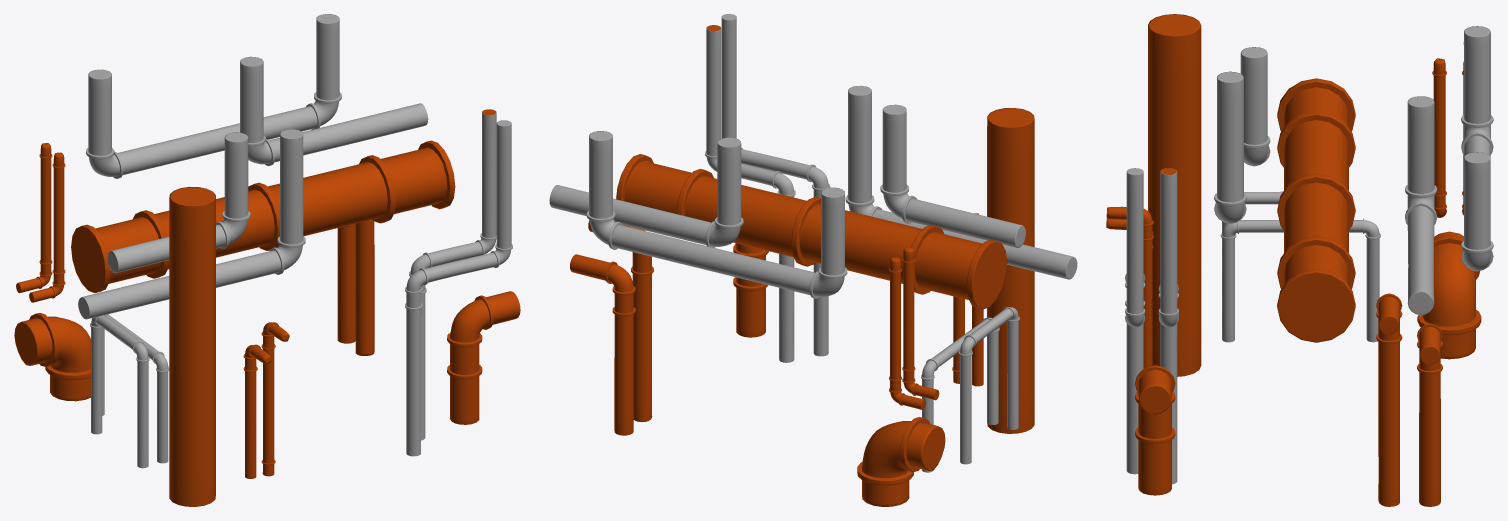
The model's file is pipes.fbx.
3 views of the same model, side by side, from view 1: azimuth 30°, elevation 25°; view 2: azimuth 150°, elevation 25°; view 3: azimuth 270°, elevation 25° (orthographic). The views are drawn at different scales.
Parts seen in each view (by area): view 1: pCylinder4, pCylinder33, pCylinder28, pCylinder38, pCylinder22, pCylinder29, pCylinder36, pCylinder32, pCylinder37, pCylinder23, pCylinder34, pCylinder30 (+6 smaller); view 2: pCylinder4, pCylinder33, pCylinder28, pCylinder29, pCylinder37, pCylinder36, pCylinder38, pCylinder22, pCylinder23, pCylinder31, pCylinder34, pCylinder30 (+6 smaller); view 3: pCylinder4, pCylinder33, pCylinder28, pCylinder29, pCylinder22, pCylinder36, pCylinder30, pCylinder32, pCylinder23, pCylinder38, pCylinder31, pCylinder35 (+4 smaller).
Part boxes in pixels (x1,y1,x2,y2): pCylinder4: (71,140,455,292); pCylinder33: (169,186,215,506); pCylinder28: (86,14,341,178); pCylinder38: (78,129,305,319); pCylinder22: (405,120,512,456); pCylinder29: (240,56,428,166); pCylinder36: (14,313,90,401); pCylinder32: (447,291,520,424); pCylinder37: (107,132,250,273); pCylinder23: (409,109,496,440); pCylinder34: (90,315,149,468); pCylinder30: (355,219,374,355); pCylinder4: (616,154,1007,309); pCylinder33: (987,108,1034,433); pCylinder28: (586,131,847,298); pCylinder29: (549,137,743,247); pCylinder37: (880,104,1025,248); pCylinder36: (857,417,945,506); pCylinder38: (845,85,1077,279); pCylinder22: (721,14,830,356); pCylinder23: (705,25,795,362); pCylinder31: (570,254,635,435); pCylinder34: (959,307,1019,464); pCylinder30: (588,220,653,422); pCylinder4: (1277,78,1355,342); pCylinder33: (1148,14,1201,376); pCylinder28: (1461,26,1493,271); pCylinder29: (1405,96,1437,315); pCylinder22: (1125,168,1145,474); pCylinder36: (1417,231,1481,359); pCylinder30: (1376,293,1402,506); pCylinder32: (1135,365,1175,495); pCylinder23: (1158,168,1178,484); pCylinder38: (1214,71,1246,223); pCylinder31: (1417,323,1442,506); pCylinder35: (1220,218,1380,342).
Bounding box in the file's own units: 13.66 × 9.73 × 9.56.
